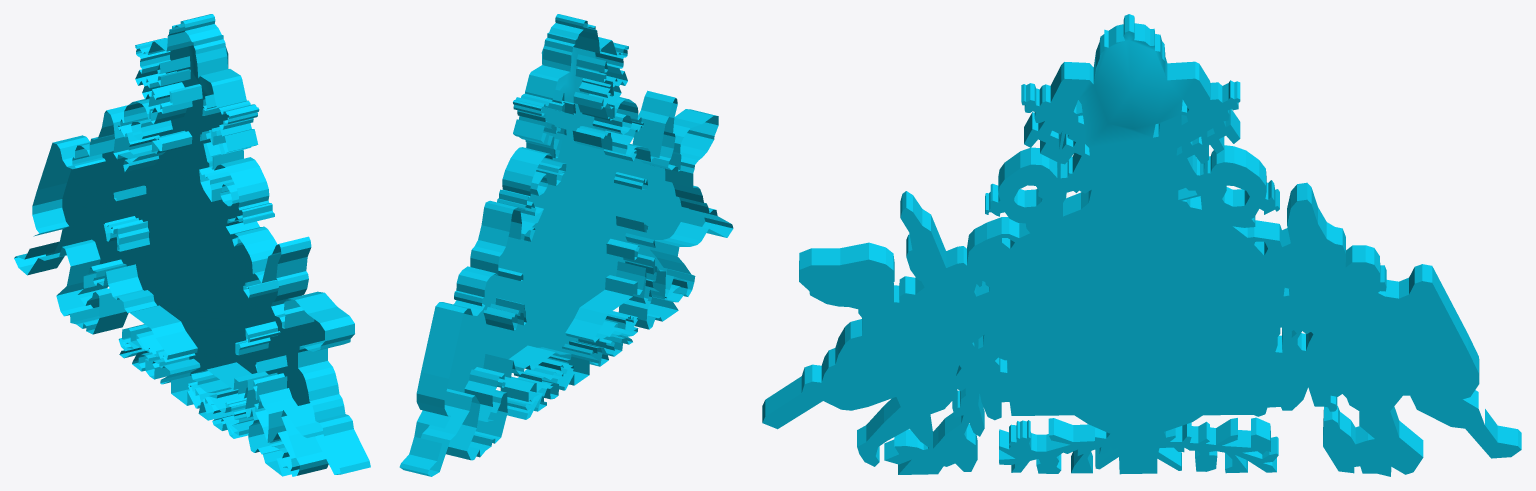
3 renders of one model, left to right at view 1: azimuth 30°, elevation 25°; view 2: azimuth 150°, elevation 25°; view 3: azimuth 270°, elevation 25°, orthographic. The views are drawn at different scales.
Visible parts, largest first — view 1: Plane024; view 2: Plane024; view 3: Plane024.
Boxes of the visible parts, x1,y1,x2,y2 form: Plane024: (14,14,370,476); Plane024: (399,14,733,476); Plane024: (762,14,1521,476).
Size of the model in its own units: 114 by 904 by 1395.
